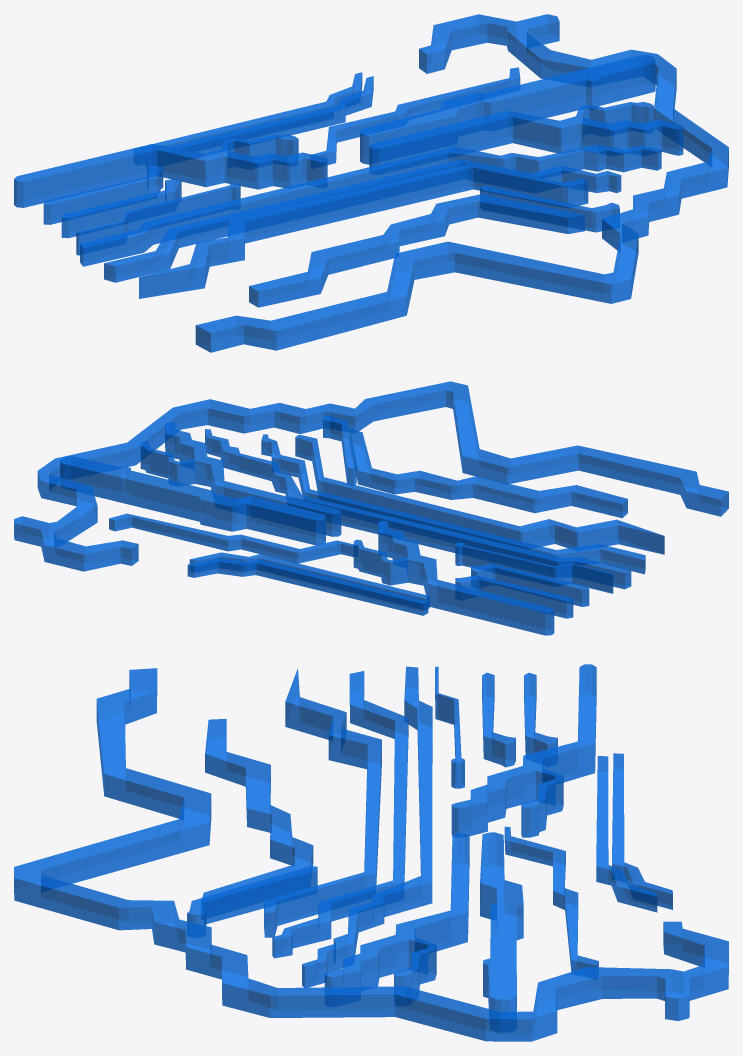
Rendered from New Game Object (1).obj.
3 views of the same model, one above another, from view 1: azimuth 30°, elevation 25°; view 2: azimuth 150°, elevation 25°; view 3: azimuth 270°, elevation 25° (orthographic). The views are drawn at different scales.
Visible parts, largest first — view 1: New Game Object_0, New Game Object_1, New Game Object (2)_0, New Game Object (2)_1, New Game Object (1)_0, New Game Object (3)_0, New Game Object (1)_1, New Game Object (3)_1; view 2: New Game Object_0, New Game Object_1, New Game Object (2)_0, New Game Object (2)_1, New Game Object (3)_0, New Game Object (1)_0, New Game Object (1)_1, New Game Object (3)_1; view 3: New Game Object_0, New Game Object_1, New Game Object (2)_0, New Game Object (2)_1, New Game Object (1)_1, New Game Object (1)_0, New Game Object (3)_1, New Game Object (3)_0.
Boxes of the visible parts, box(x1,y1,x2,y2) form: New Game Object_0: box(76, 14, 728, 352); New Game Object_1: box(77, 14, 728, 352); New Game Object (2)_0: box(14, 135, 327, 238); New Game Object (2)_1: box(14, 134, 327, 237); New Game Object (1)_0: box(170, 76, 373, 153); New Game Object (3)_0: box(43, 166, 163, 224); New Game Object (1)_1: box(169, 76, 373, 153); New Game Object (3)_1: box(44, 165, 162, 224); New Game Object_0: box(14, 381, 728, 615); New Game Object_1: box(14, 381, 728, 615); New Game Object (2)_0: box(353, 521, 589, 635); New Game Object (2)_1: box(353, 520, 588, 635); New Game Object (3)_0: box(455, 575, 573, 618); New Game Object (1)_0: box(189, 553, 429, 608); New Game Object (1)_1: box(190, 552, 429, 598); New Game Object (3)_1: box(455, 575, 572, 618); New Game Object_0: box(14, 667, 728, 1041); New Game Object_1: box(14, 666, 728, 1041); New Game Object (2)_0: box(451, 664, 596, 837); New Game Object (2)_1: box(452, 664, 596, 837); New Game Object (1)_1: box(596, 756, 657, 911); New Game Object (1)_0: box(596, 756, 657, 912); New Game Object (3)_1: box(524, 673, 557, 754); New Game Object (3)_0: box(524, 673, 557, 754).
Bounding box in the file's own units: 91.51 × 3.98 × 78.17.
